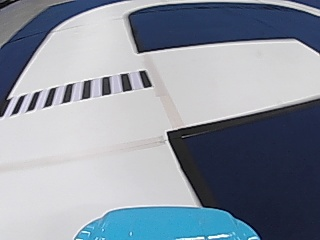CrossWalk: (10, 70, 149, 112)
